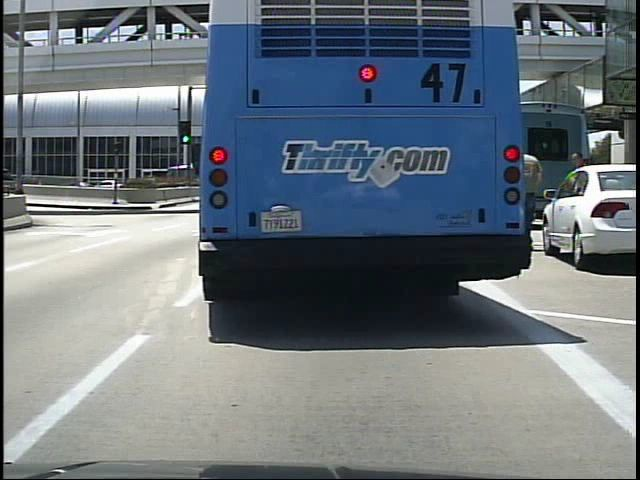person: (564, 149, 593, 252)
